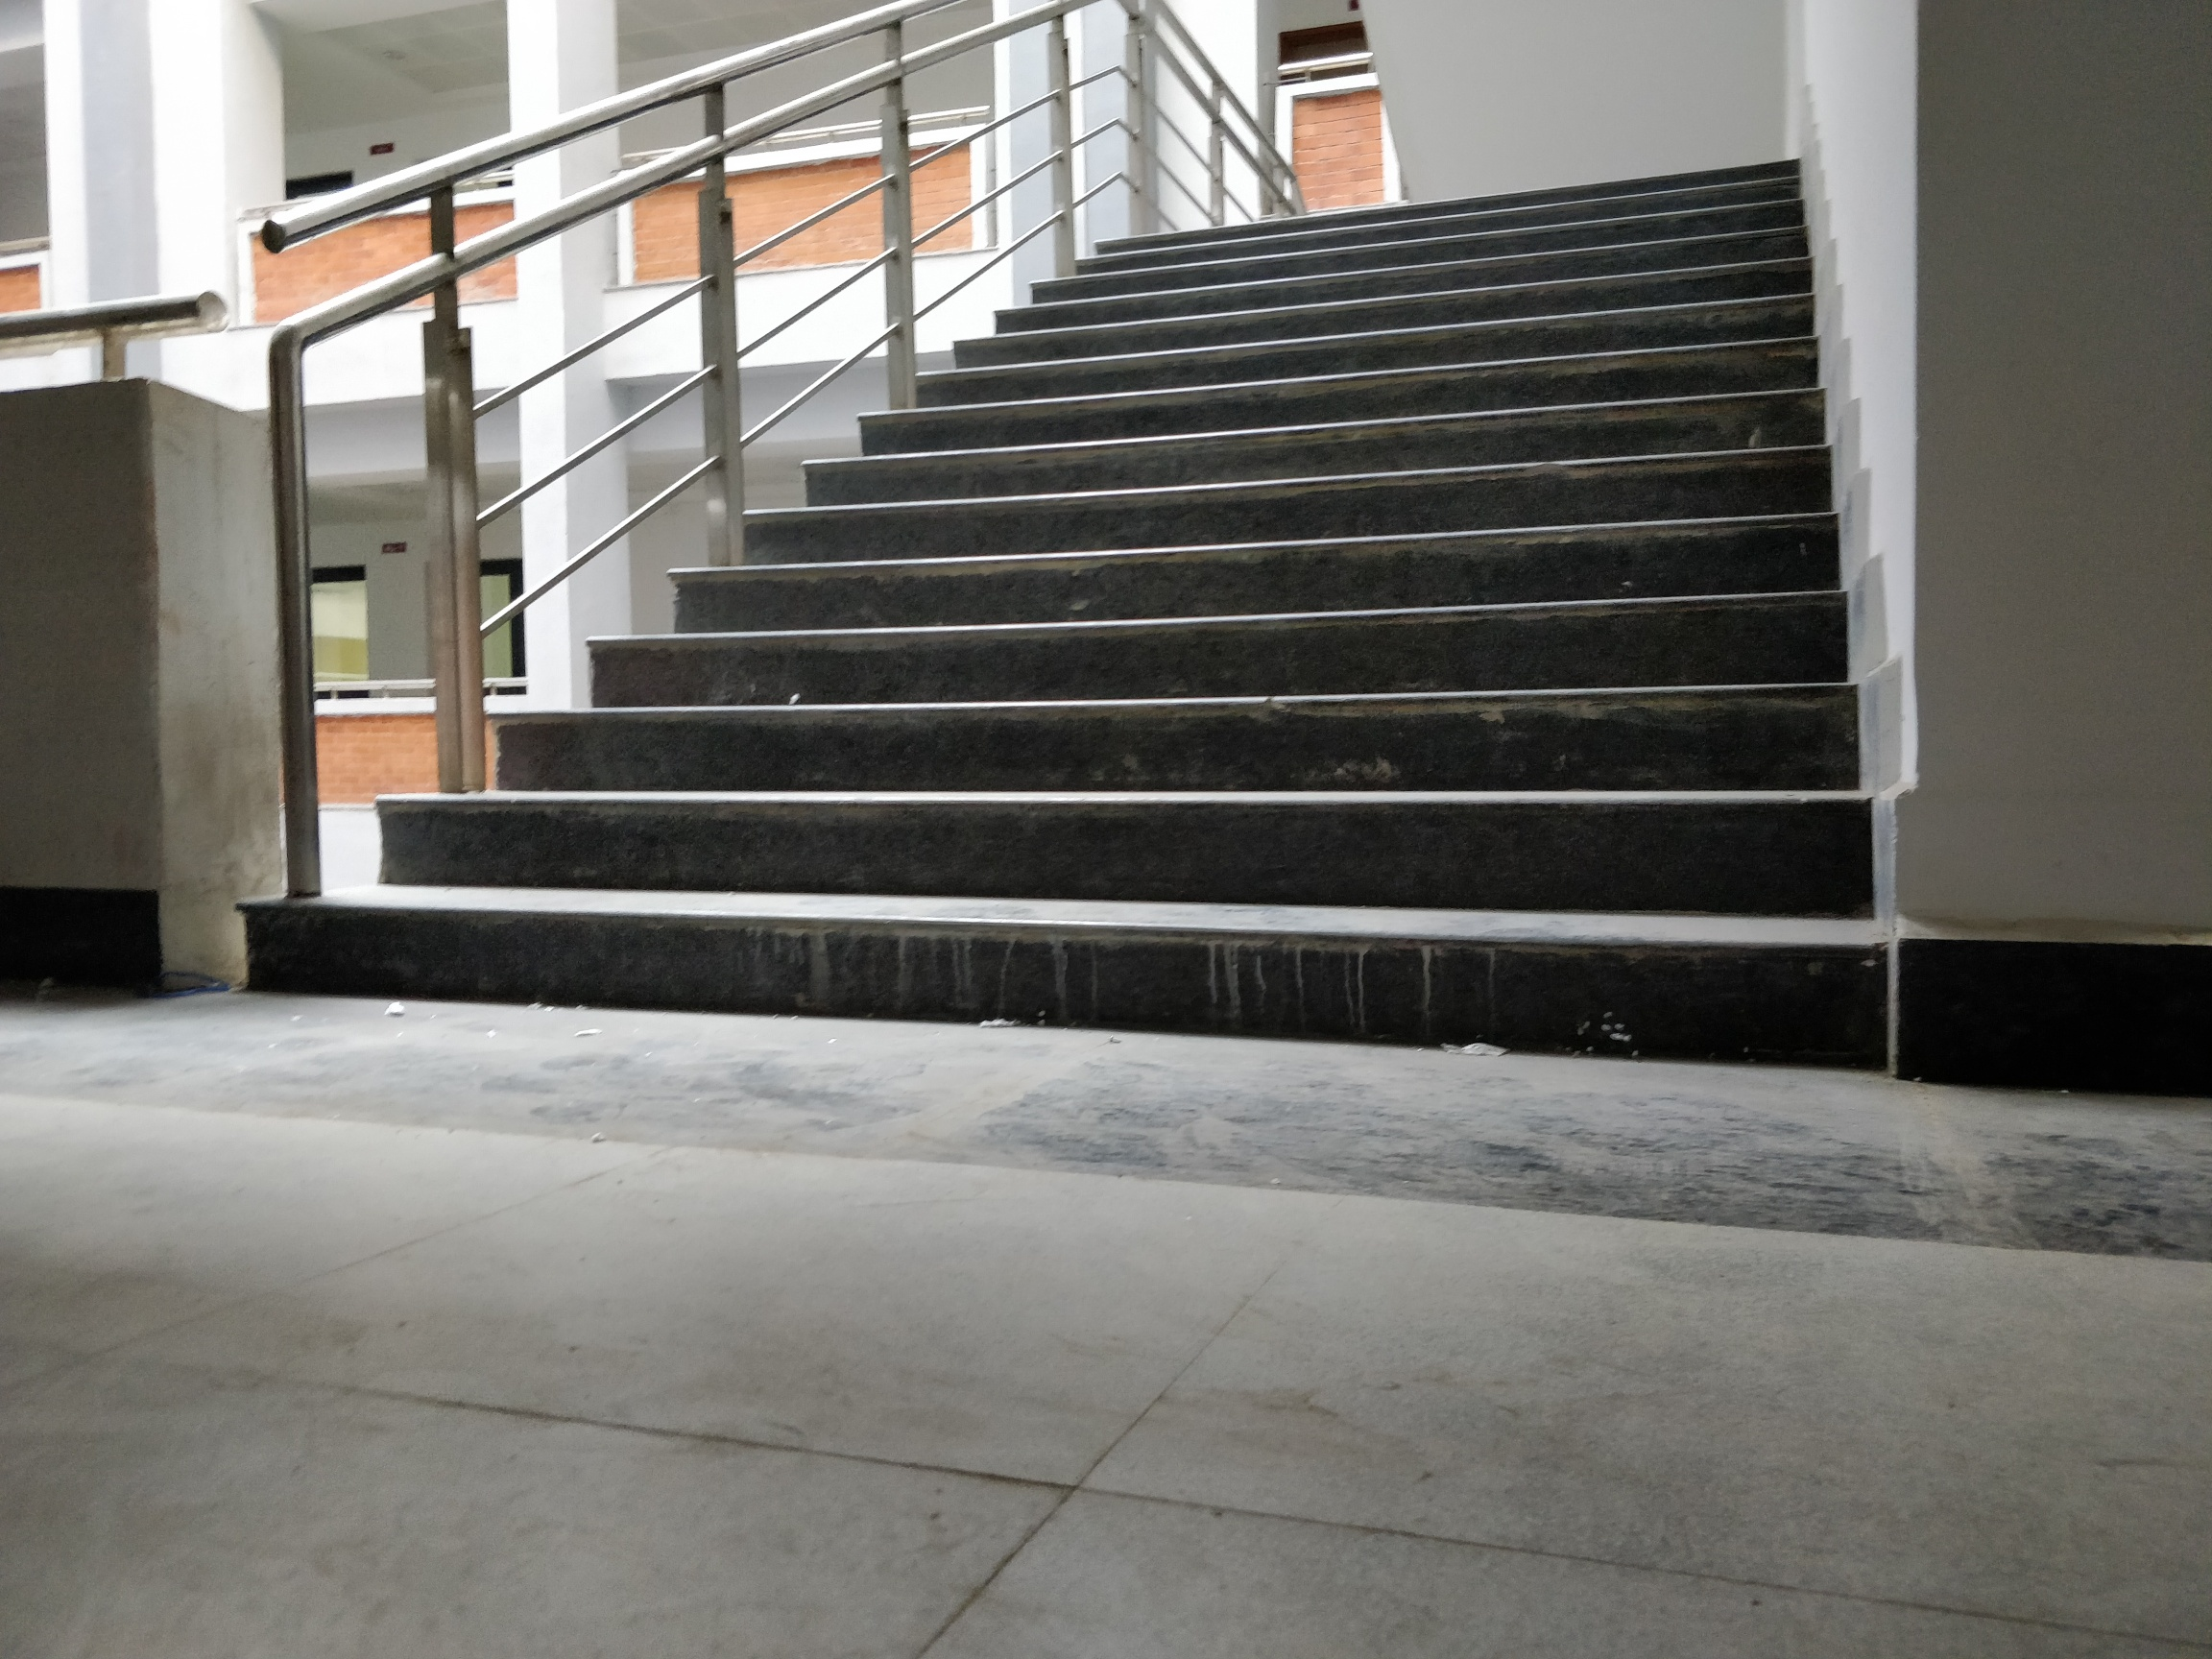stairs_up: (305, 146, 1808, 1072)
